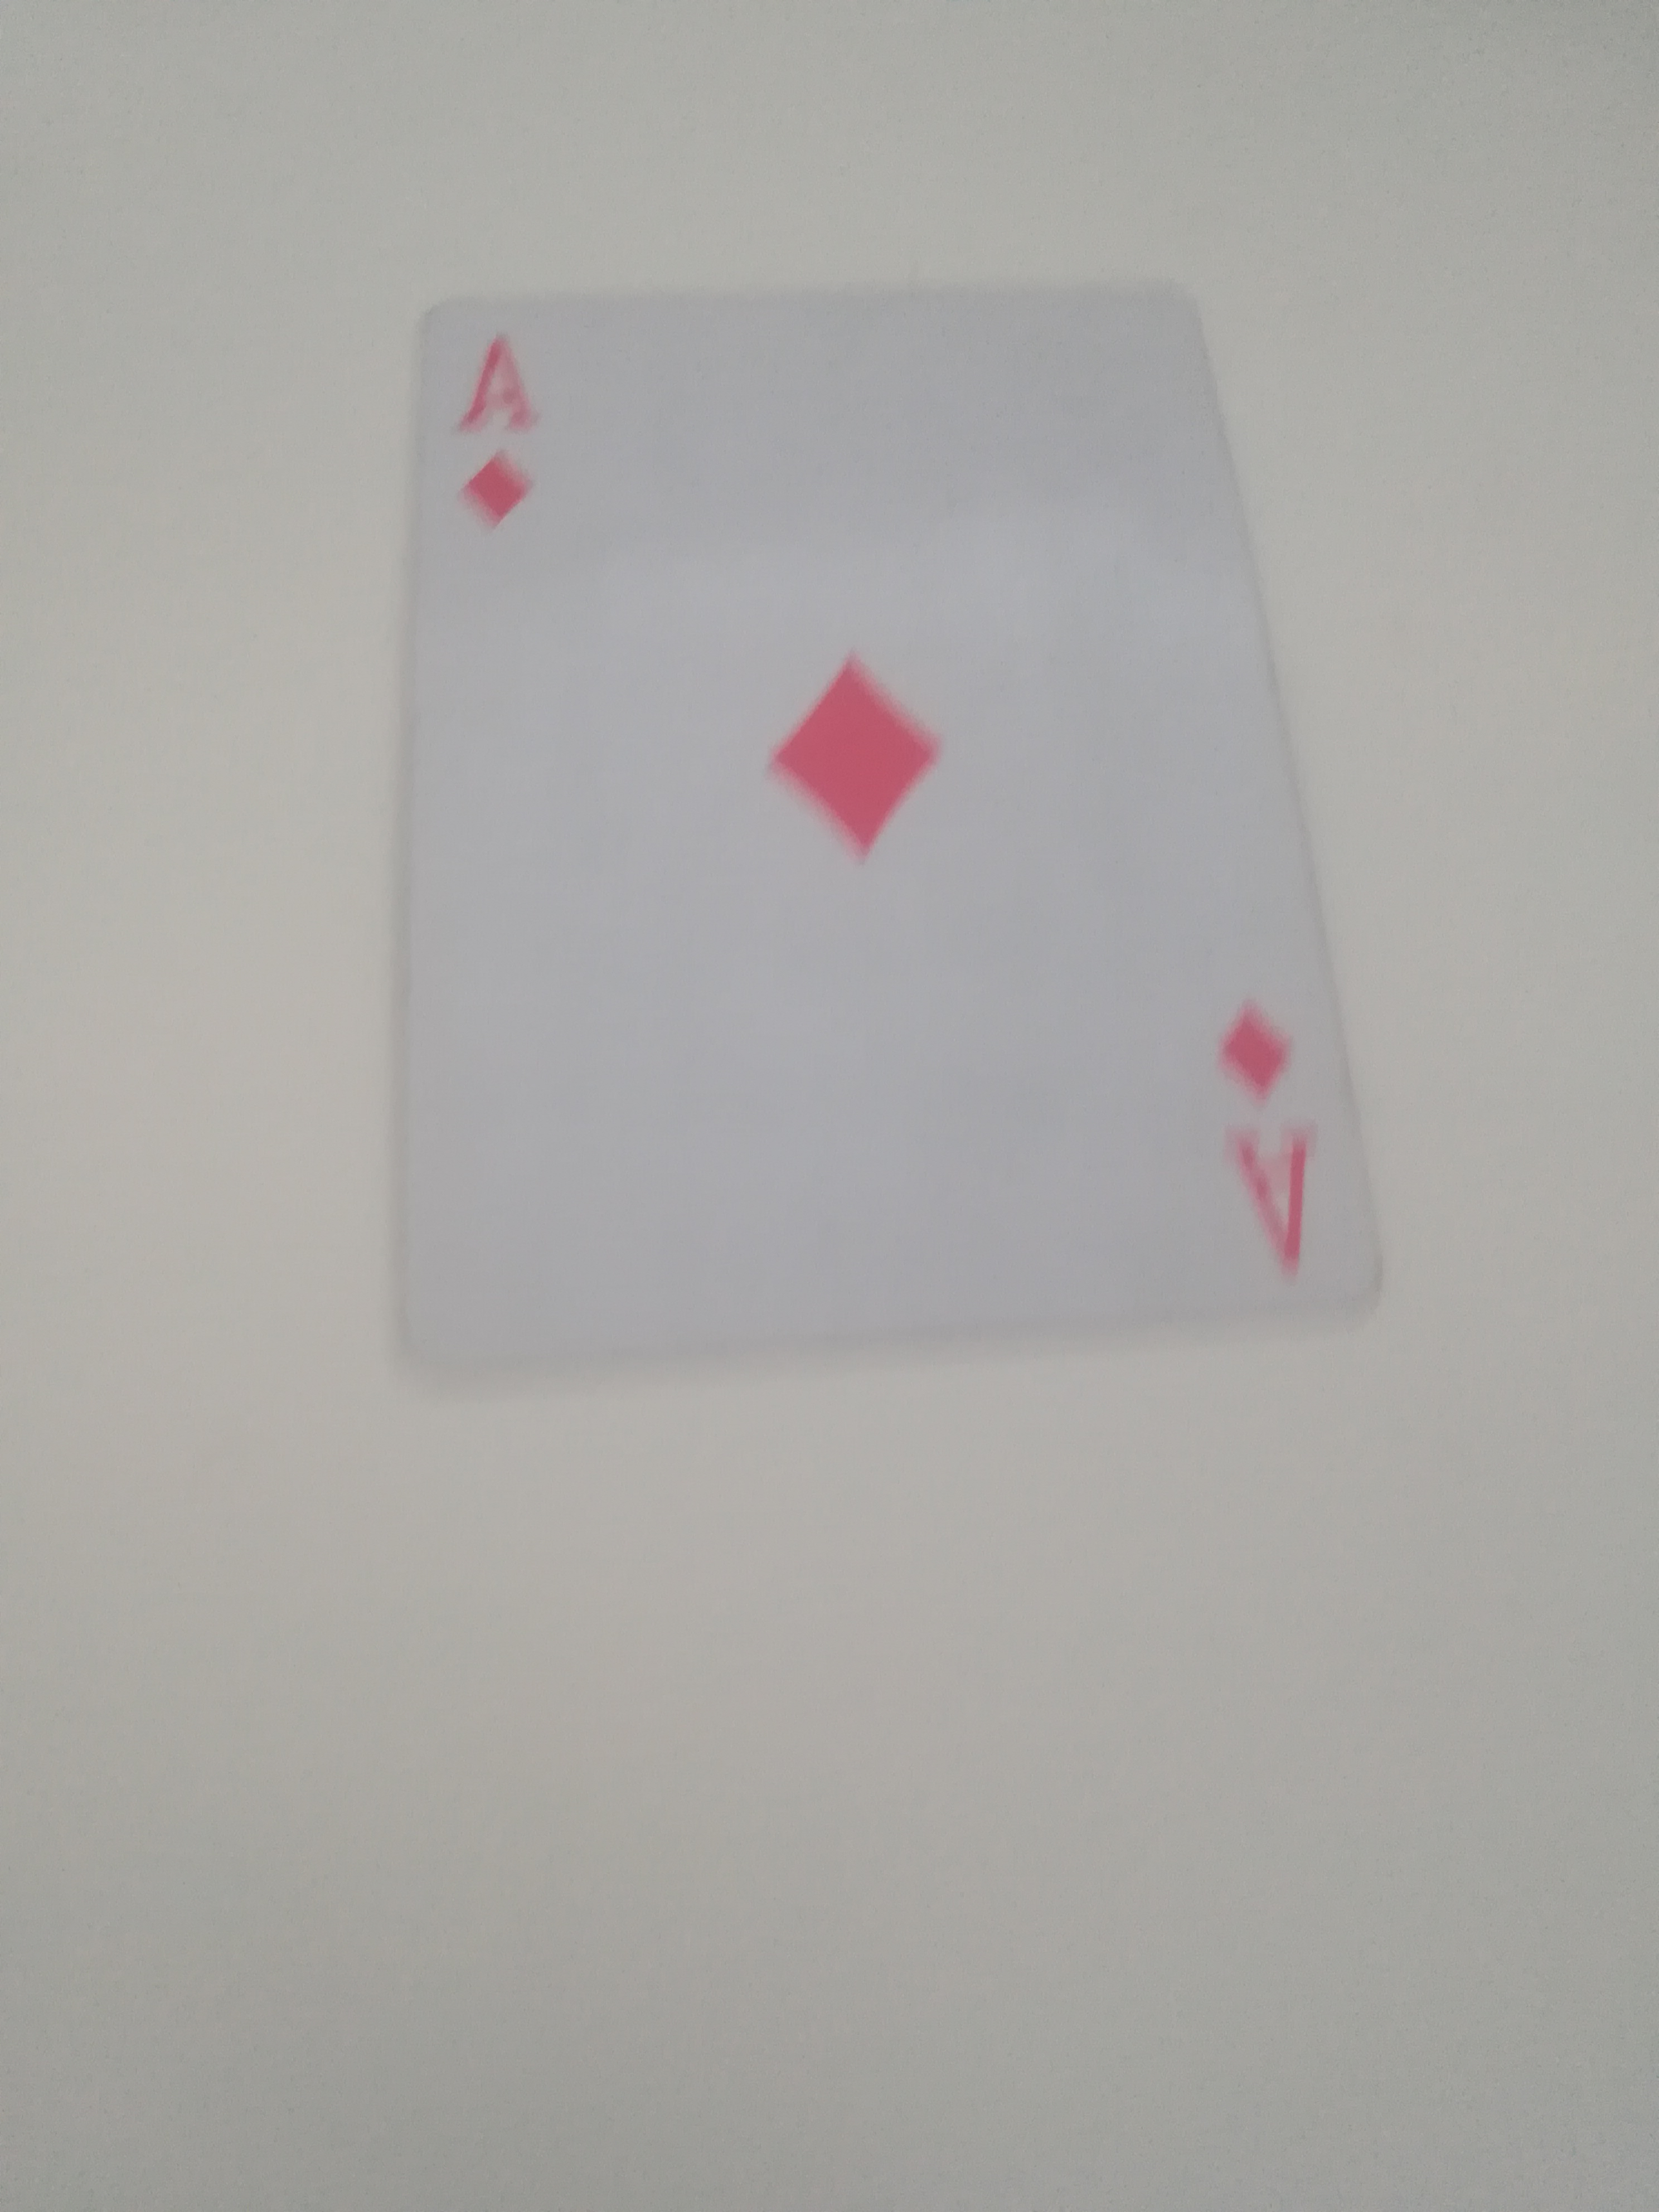AD: (385, 244, 1392, 1399)
